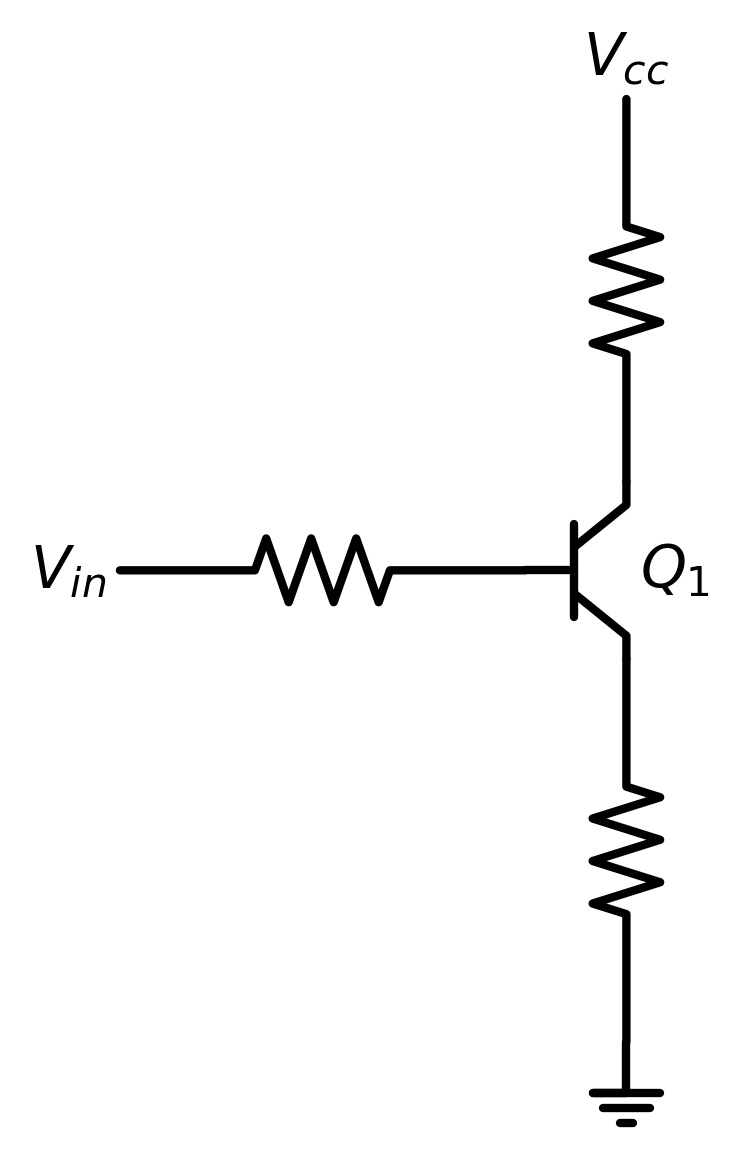bjt: (544, 490, 642, 662)
ground: (583, 1067, 674, 1143)
resistor: (585, 765, 672, 940), (578, 203, 665, 374), (246, 519, 401, 612)
